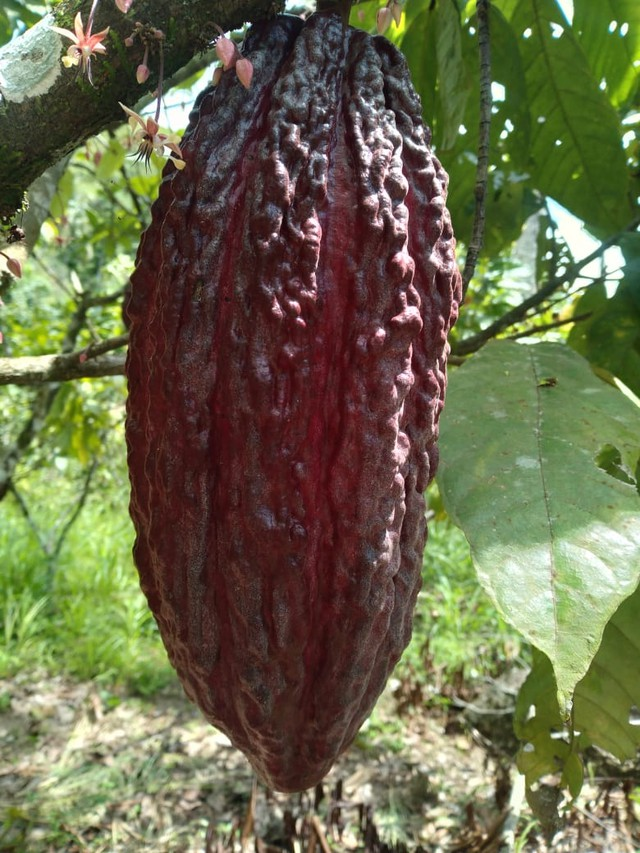Health: (94, 7, 472, 804)
